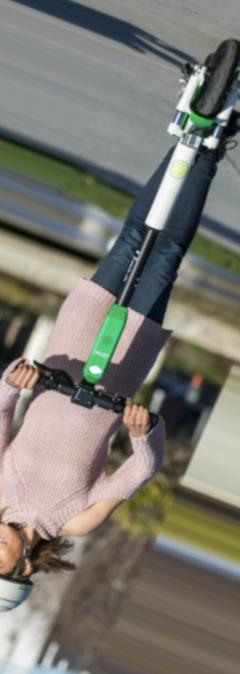scooter: (11, 35, 240, 430)
